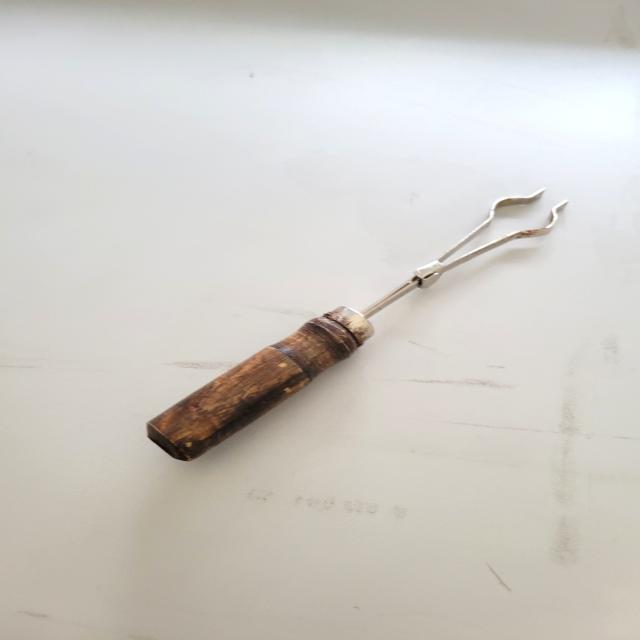TestTube_Holder: (119, 184, 580, 470)
